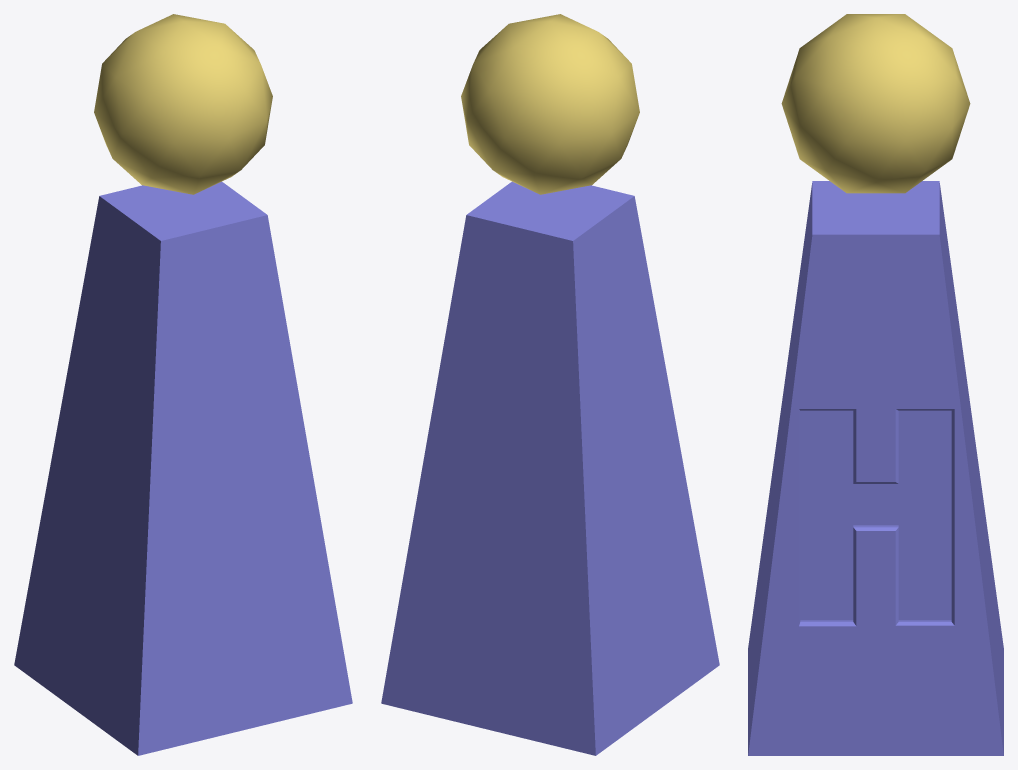
The model's file is Hydrogen.fbx.
The picture shows the model from 3 angles, left to right: view 1: azimuth 30°, elevation 25°; view 2: azimuth 150°, elevation 25°; view 3: azimuth 270°, elevation 25°; orthographic projection. The views are drawn at different scales.
Parts seen in each view (by area): view 1: Hydrogen; view 2: Hydrogen; view 3: Hydrogen.
Boxes of the visible parts, x1,y1,x2,y2 form: Hydrogen: (14,14,352,755); Hydrogen: (381,14,719,755); Hydrogen: (748,14,1003,755).
Size of the model in its own units: 200 by 590 by 200.
